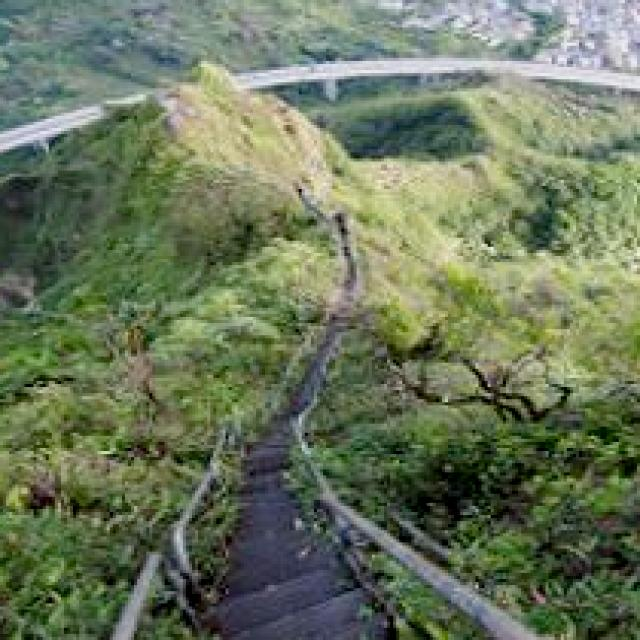downstair: (184, 513, 400, 640)
